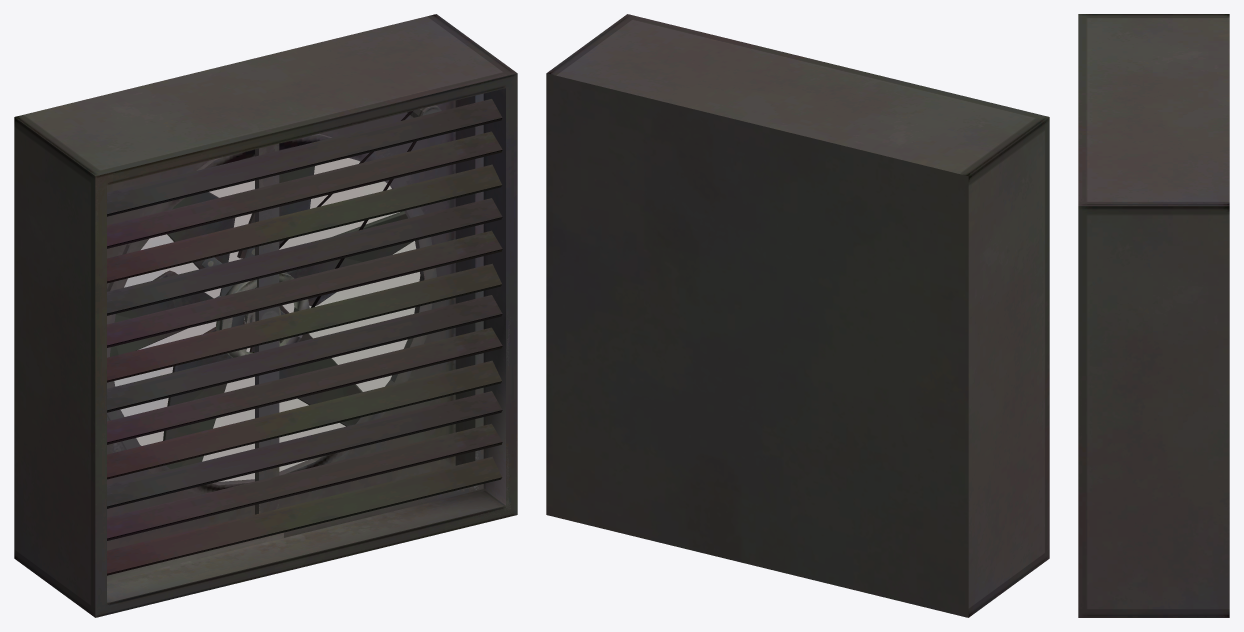
The model's file is Fan01.dae.
The picture shows the model from 3 angles, left to right: view 1: azimuth 30°, elevation 25°; view 2: azimuth 150°, elevation 25°; view 3: azimuth 270°, elevation 25°; orthographic projection. The views are drawn at different scales.
Visible parts, largest first — view 1: polySurface33, polySurface32; view 2: polySurface33; view 3: polySurface33.
Boxes of the visible parts, x1=… form: polySurface33: x1=14, y1=14, x2=517, y2=617; polySurface32: x1=110, y1=166, x2=413, y2=469; polySurface33: x1=546, y1=14, x2=1049, y2=617; polySurface33: x1=1078, y1=14, x2=1229, y2=617.
Size of the model in its own units: 1.5 by 1.5 by 0.4986.
1 material, 1 textured.
